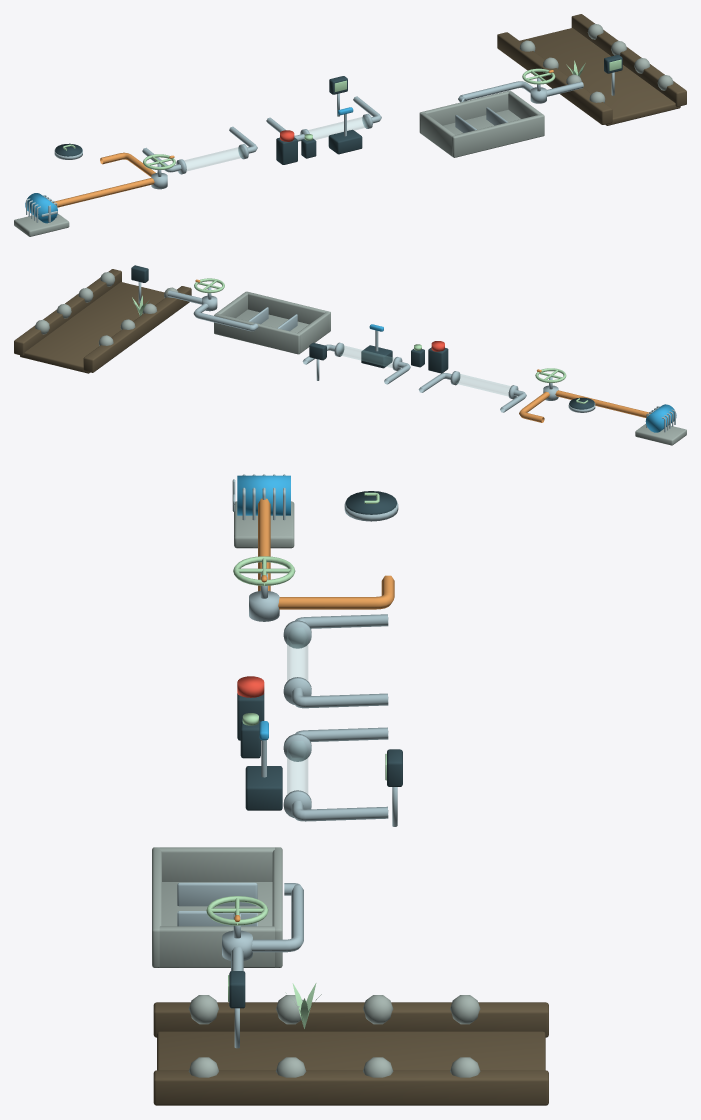
The model's file is interactive-equipment-low.90b7919be148.glb.
The picture shows the model from 3 angles, top to bottom: view 1: azimuth 30°, elevation 25°; view 2: azimuth 150°, elevation 25°; view 3: azimuth 270°, elevation 25°; orthographic projection. The views are drawn at different scales.
Visible parts, largest first — view 1: River_Receiving_Earth, Pond_Polishing_Concrete, Pipe_Inspection_Network_Steel, _Concrete, Pipe_Inspection_Network_Glass, Pipe_Inspection_Network_Copper, Pump_Interactive_Concrete, Lever_Aeration_Graphite, Pump_Interactive_Blue, Emergency_Stop_Graphite, Pond_Polishing_Steel, Valve_Main_Inlet_Wheel_Mint (+1 smaller); view 2: River_Receiving_Earth, Pond_Polishing_Concrete, Pipe_Inspection_Network_Steel, Pipe_Inspection_Network_Glass, _Concrete, Pipe_Inspection_Network_Copper, Pump_Interactive_Concrete, Lever_Aeration_Graphite, Pump_Interactive_Blue, Emergency_Stop_Graphite, Pond_Polishing_Steel, Valve_Discharge_Wheel_Mint (+1 smaller); view 3: River_Receiving_Earth, Pond_Polishing_Concrete, Pipe_Inspection_Network_Steel, _Concrete, Pipe_Inspection_Network_Copper, Pond_Polishing_Steel, Pipe_Inspection_Network_Glass, Pump_Interactive_Blue, Pump_Interactive_Concrete, Lever_Aeration_Graphite, Valve_Main_Inlet_Wheel_Mint, Valve_Discharge_Wheel_Mint (+1 smaller).
Boxes of the visible parts, bbox=[...] form: River_Receiving_Earth: bbox=[497, 14, 686, 125]; Pond_Polishing_Concrete: bbox=[419, 90, 544, 157]; Pipe_Inspection_Network_Steel: bbox=[142, 81, 583, 174]; _Concrete: bbox=[519, 23, 673, 102]; Pipe_Inspection_Network_Glass: bbox=[184, 116, 367, 170]; Pipe_Inspection_Network_Copper: bbox=[52, 152, 155, 207]; Pump_Interactive_Concrete: bbox=[14, 213, 69, 236]; Lever_Aeration_Graphite: bbox=[328, 129, 362, 154]; Pump_Interactive_Blue: bbox=[25, 193, 57, 223]; Emergency_Stop_Graphite: bbox=[276, 137, 297, 164]; Pond_Polishing_Steel: bbox=[455, 107, 507, 132]; Valve_Main_Inlet_Wheel_Mint: bbox=[143, 154, 175, 169]; River_Receiving_Earth: bbox=[14, 269, 191, 373]; Pond_Polishing_Concrete: bbox=[214, 291, 330, 354]; Pipe_Inspection_Network_Steel: bbox=[167, 290, 526, 412]; Pipe_Inspection_Network_Glass: bbox=[339, 345, 510, 395]; _Concrete: bbox=[35, 272, 178, 345]; Pipe_Inspection_Network_Copper: bbox=[519, 390, 650, 422]; Pump_Interactive_Concrete: bbox=[635, 424, 686, 445]; Lever_Aeration_Graphite: bbox=[361, 345, 392, 368]; Pump_Interactive_Blue: bbox=[645, 404, 676, 432]; Emergency_Stop_Graphite: bbox=[428, 347, 448, 373]; Pond_Polishing_Steel: bbox=[248, 307, 297, 331]; Valve_Discharge_Wheel_Mint: bbox=[194, 278, 224, 293]; River_Receiving_Earth: bbox=[153, 1002, 548, 1105]; Pond_Polishing_Concrete: bbox=[152, 847, 282, 967]; Pipe_Inspection_Network_Steel: bbox=[231, 614, 388, 970]; _Concrete: bbox=[188, 995, 480, 1077]; Pipe_Inspection_Network_Copper: bbox=[258, 498, 394, 609]; Pond_Polishing_Steel: bbox=[177, 882, 257, 926]; Pipe_Inspection_Network_Glass: bbox=[287, 628, 307, 794]; Pump_Interactive_Blue: bbox=[237, 475, 290, 515]; Pump_Interactive_Concrete: bbox=[234, 501, 294, 548]; Lever_Aeration_Graphite: bbox=[245, 766, 282, 810]; Valve_Main_Inlet_Wheel_Mint: bbox=[233, 556, 295, 585]; Valve_Discharge_Wheel_Mint: bbox=[206, 896, 268, 925].
Size of the model in its own units: 20.52 by 1.7 by 5.92.
